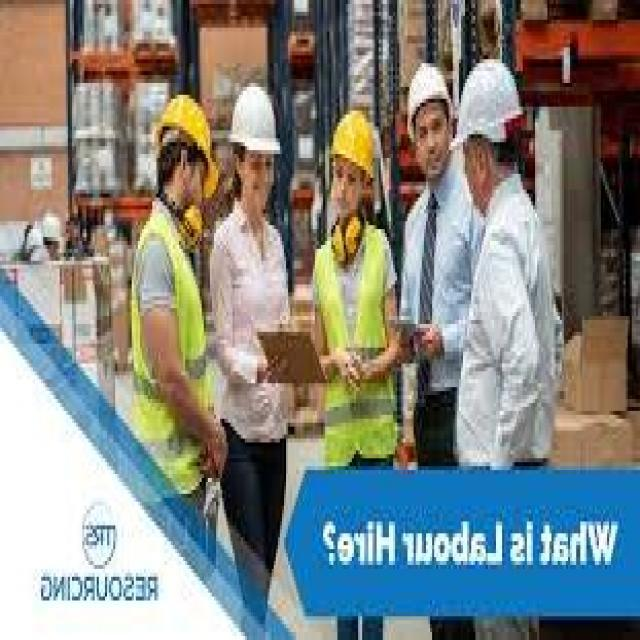reflective_jacket: (125, 209, 211, 473), (312, 225, 403, 470)
safety_helmet: (455, 55, 525, 150), (152, 87, 218, 182), (226, 79, 281, 158), (329, 102, 378, 181), (405, 59, 450, 122)
